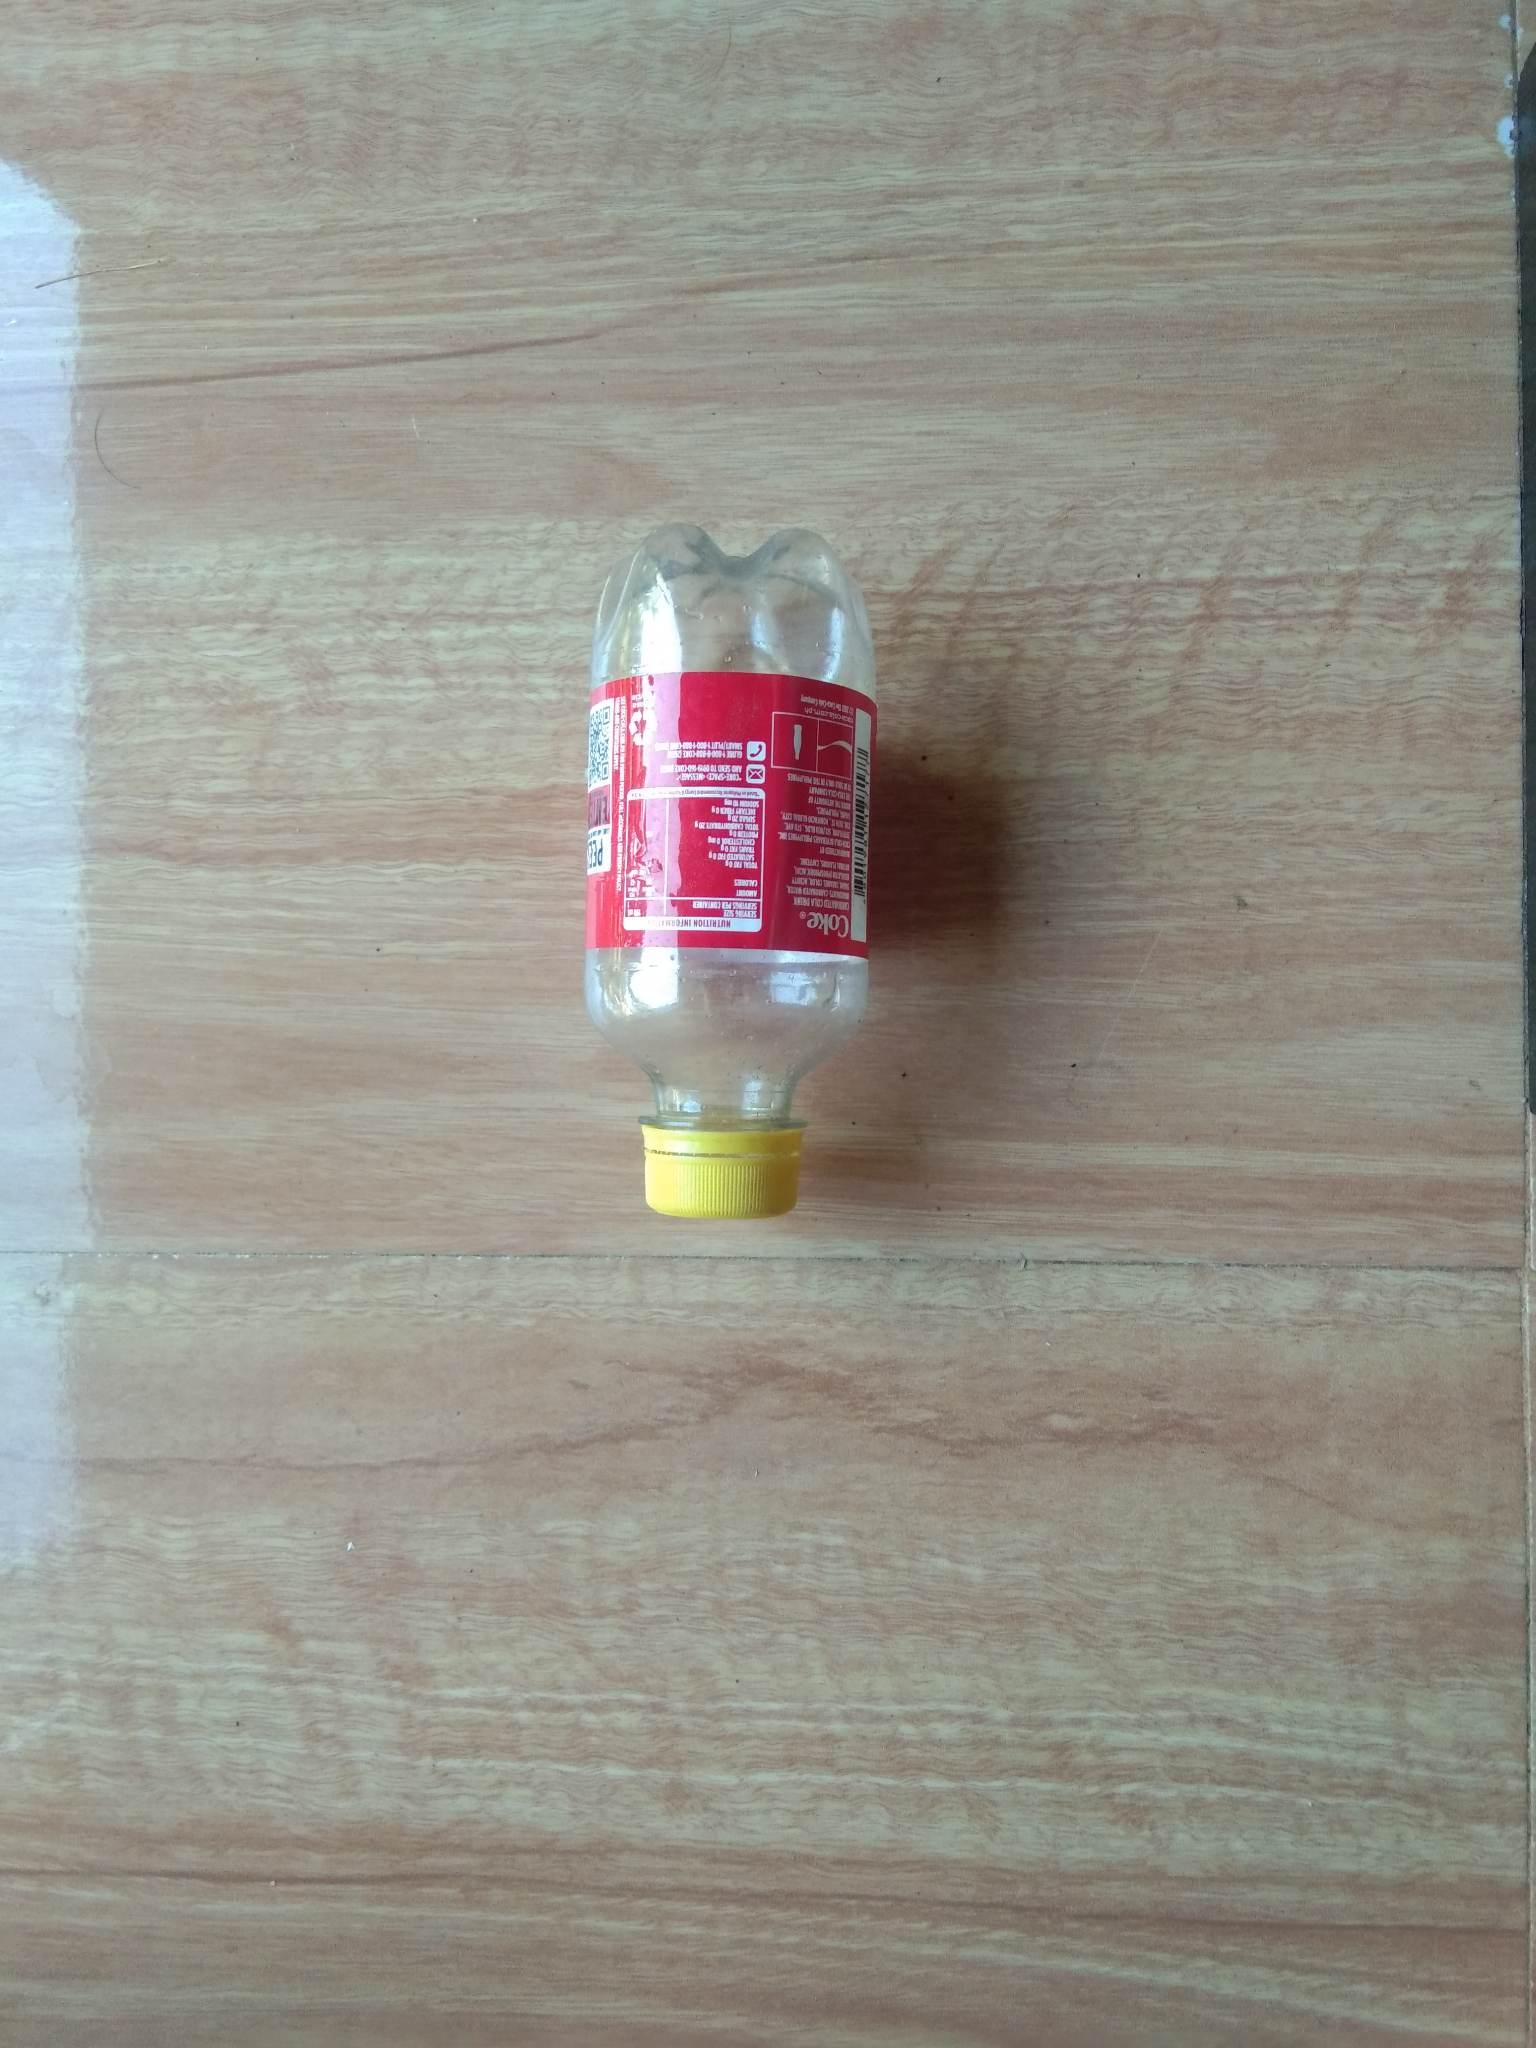plastic: (532, 492, 958, 1311)
